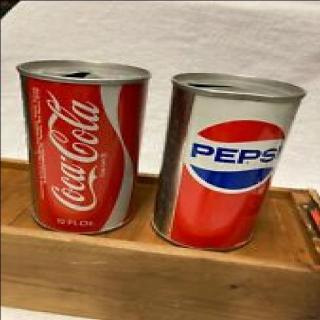Anorganik: (10, 54, 150, 240), (164, 69, 294, 247)
